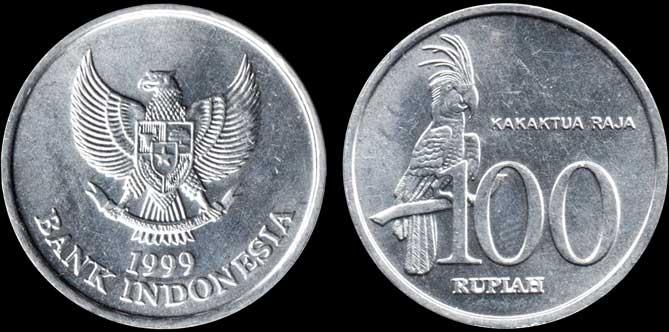coin_100_e1999: (339, 0, 669, 332), (0, 1, 329, 332)
